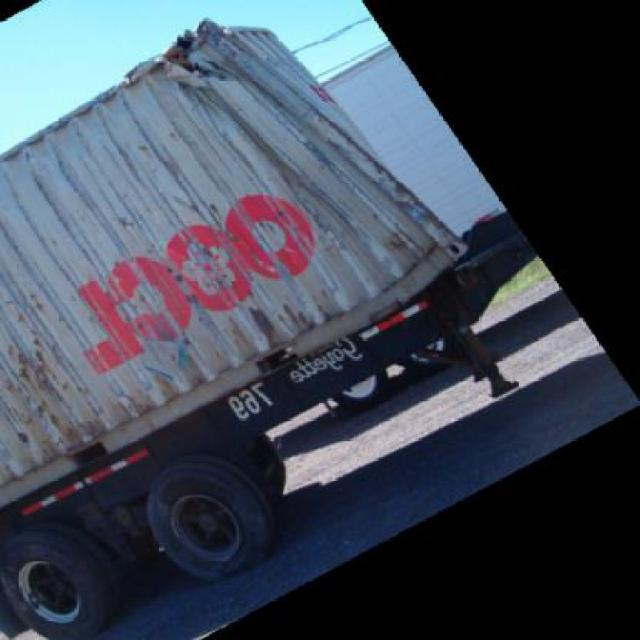rust: (209, 296, 331, 351), (12, 355, 79, 425)
